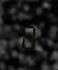eight: (19, 19, 36, 50)
